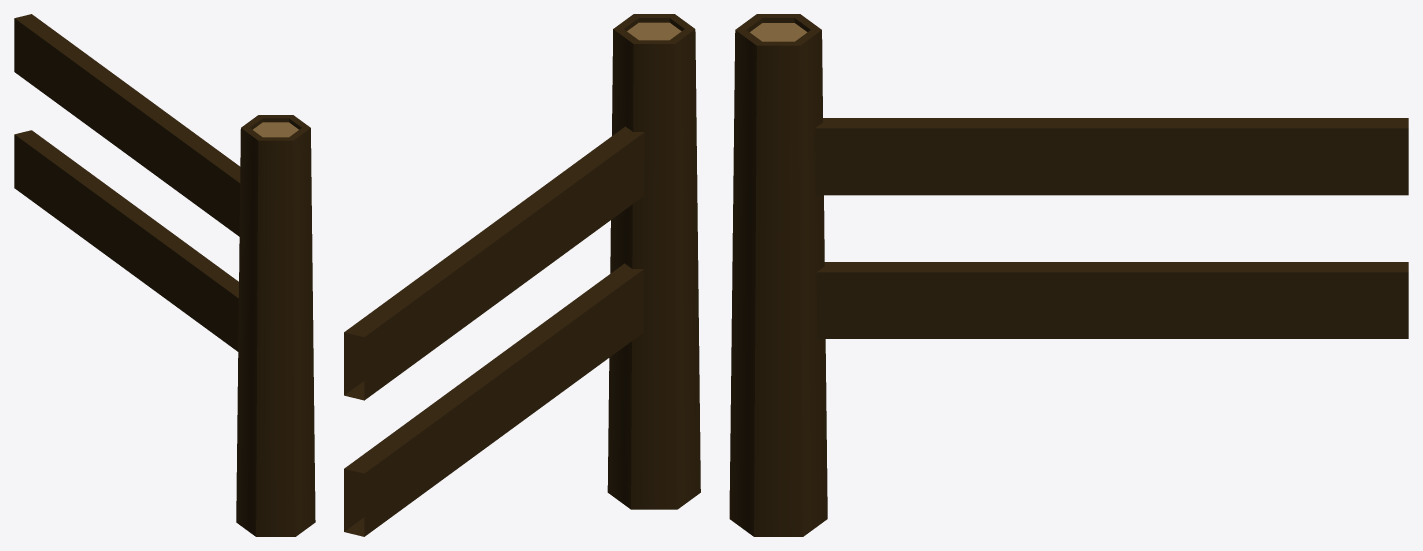
Rendered from FarmFenceExtend.fbx.
3 renders of one model, left to right at view 1: azimuth 30°, elevation 25°; view 2: azimuth 150°, elevation 25°; view 3: azimuth 270°, elevation 25°, orthographic. The views are drawn at different scales.
Visible parts, largest first — view 1: FarmFenceExtend; view 2: FarmFenceExtend; view 3: FarmFenceExtend.
Boxes of the visible parts, <box> form: FarmFenceExtend: <box>14,14,315,536</box>; FarmFenceExtend: <box>344,14,700,536</box>; FarmFenceExtend: <box>729,14,1408,536</box>.
Bounding box in the file's own units: 0.2072 × 1.31 × 1.65.
